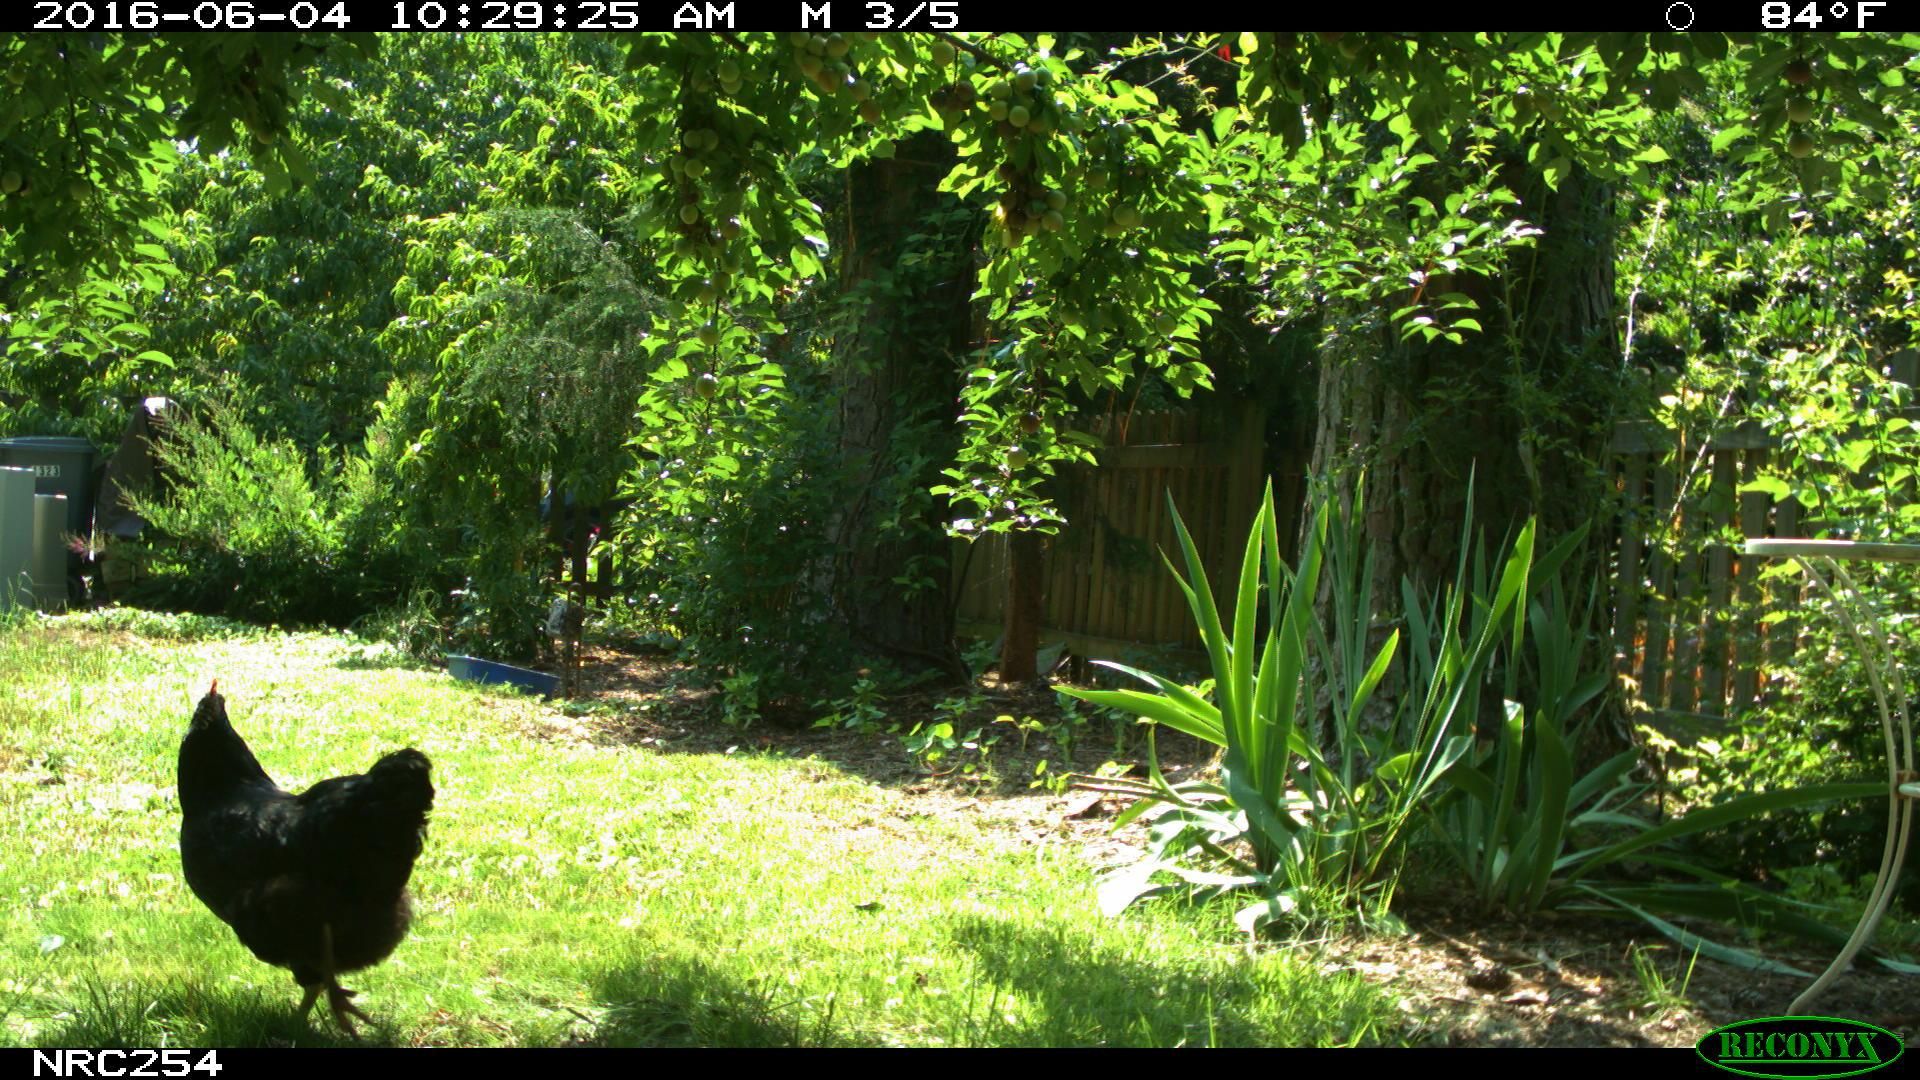Animal: (178, 684, 436, 1036)
